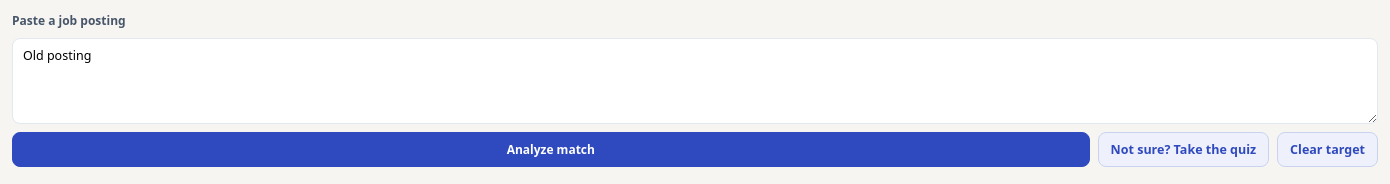
Test: JobTailor — persisted targetJob (ADR 0004) › "Clear target" empties the posting and clears the persisted target
What coordinates should you click on to do the following:
click the button "Clear target"
I would click on:
 (1328, 150)
Its box is [1277, 132, 1378, 167].
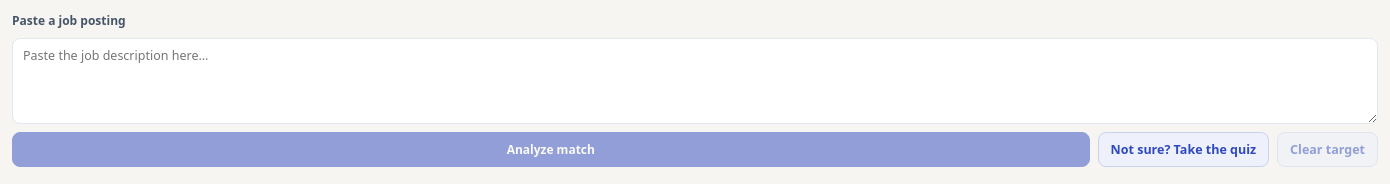
Expected: the text box labelled "Paste a job posting" is empty, [12, 38, 1378, 124]
